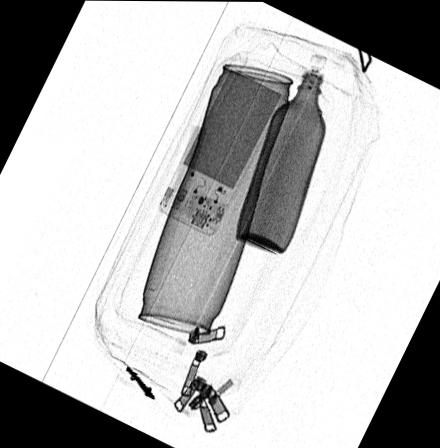Powerbank: (156, 62, 287, 236)
